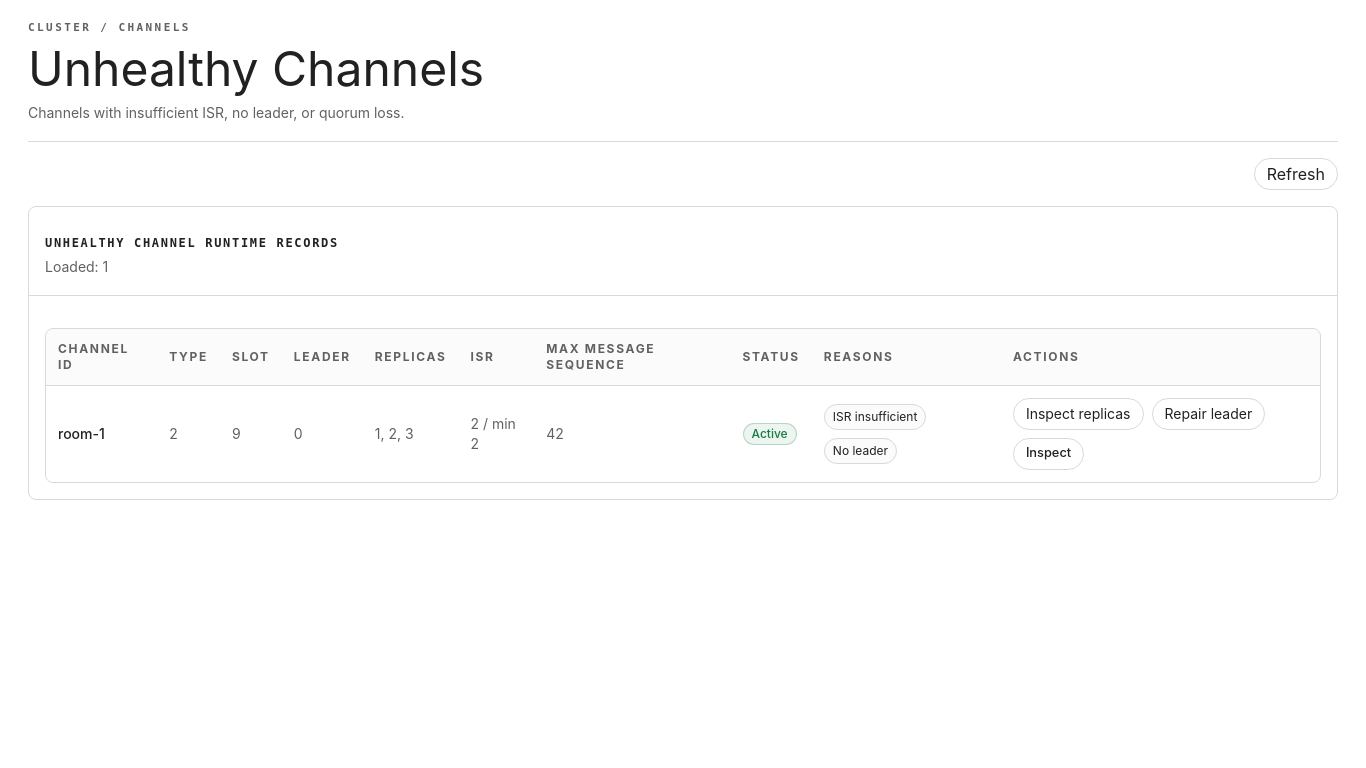
keeps row visible when repair finds no safe candidate
Click the button "Repair leader".
click(1208, 414)  # box [1152,398,1265,430]
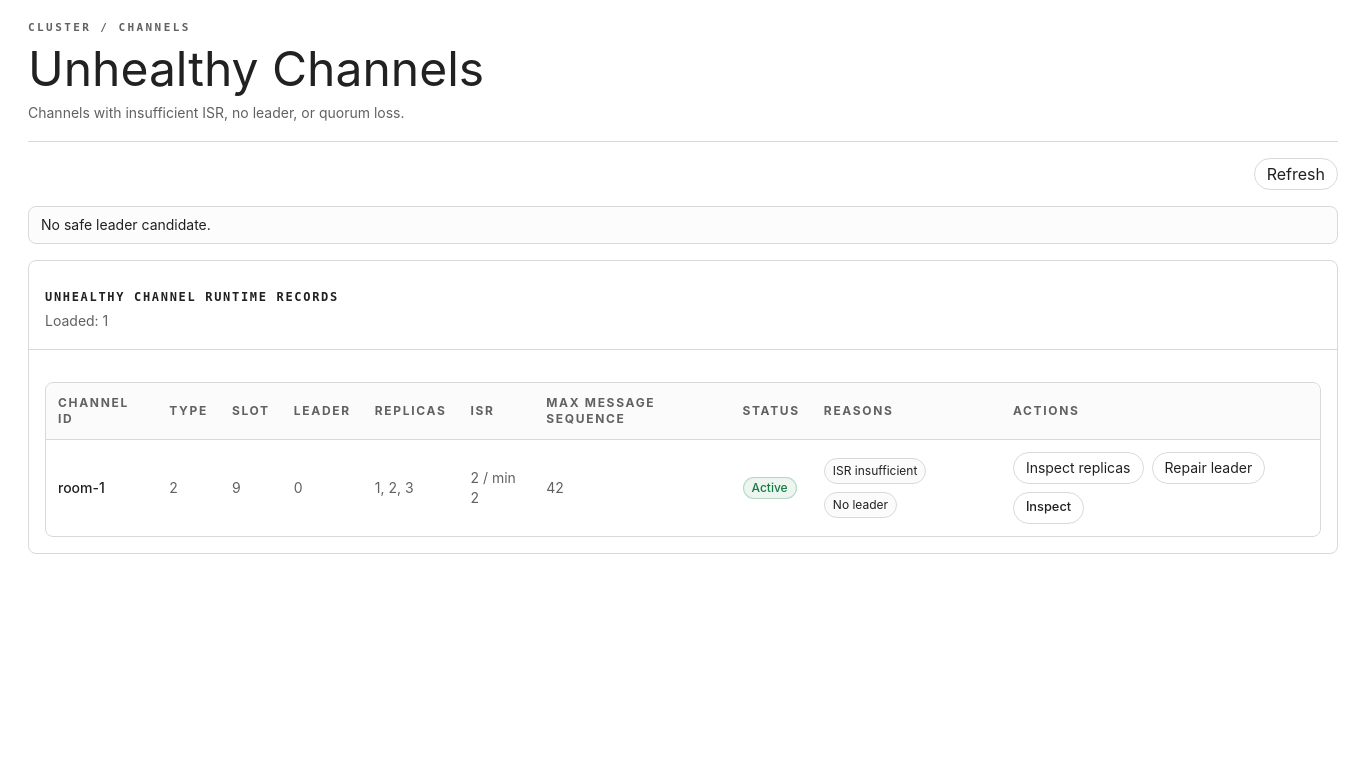
Expected: the text "room-1" is shown, [46,439,157,536]
Now the text "No safe leader candidate." is shown, box [28,206,1338,244]
